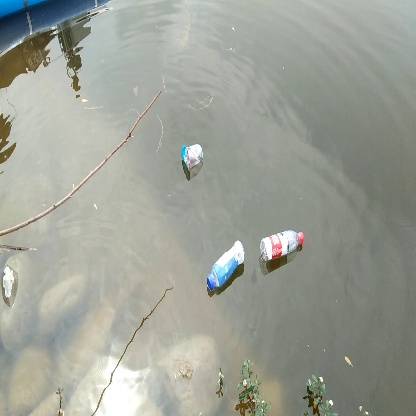bottle: (204, 237, 249, 294), (261, 224, 308, 268), (178, 140, 206, 175)
